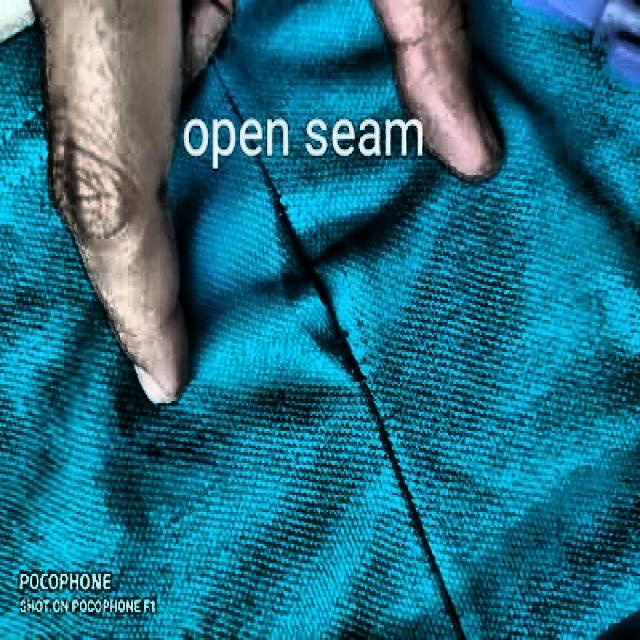seam: (225, 152, 410, 442)
